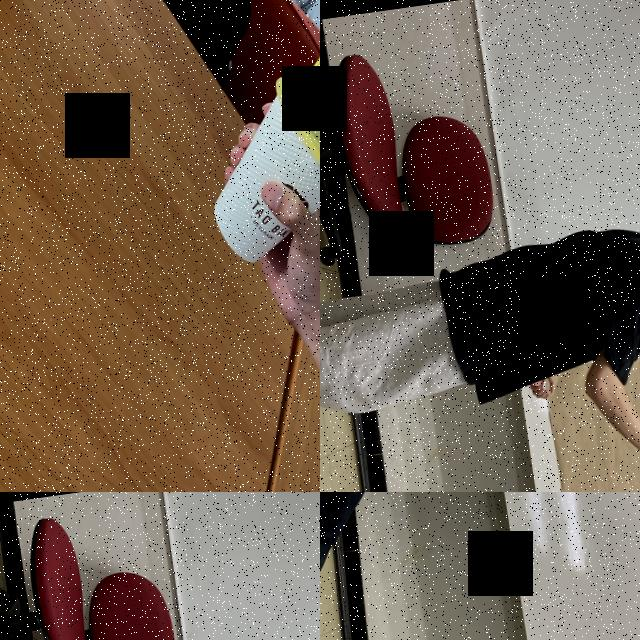cup: (193, 64, 320, 270)
